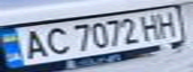0: (90, 19, 112, 49)
2: (118, 15, 142, 44)
7: (66, 20, 93, 52), (106, 17, 124, 47)
A: (15, 27, 51, 61)
C: (39, 25, 72, 56)
H: (136, 11, 166, 40), (154, 9, 181, 38)
